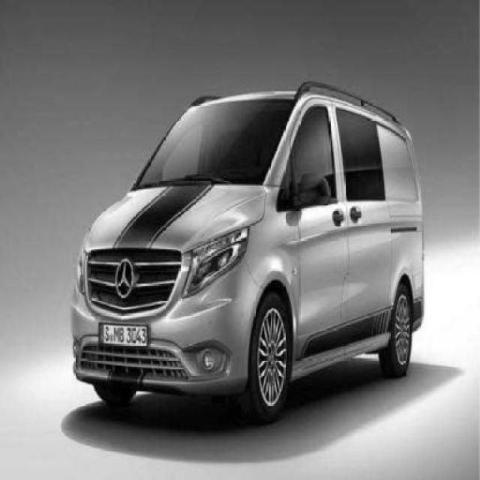van: (72, 91, 425, 423)
